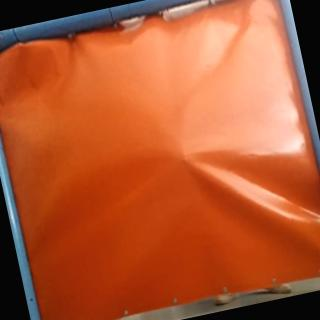Hit-hRxx: (176, 150, 194, 168)
